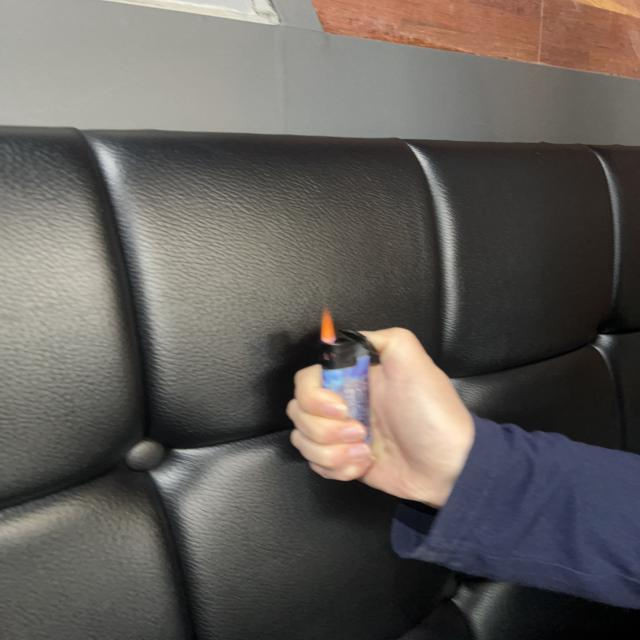fire: (320, 305, 338, 343)
